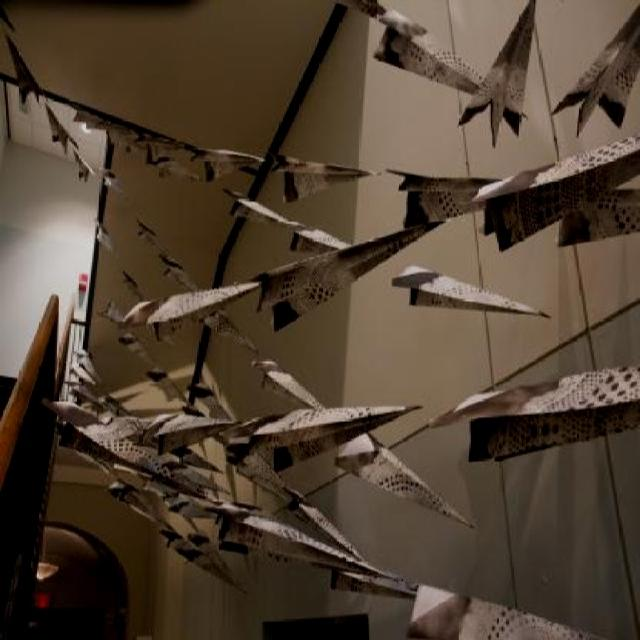stair: (0, 374, 63, 640)
